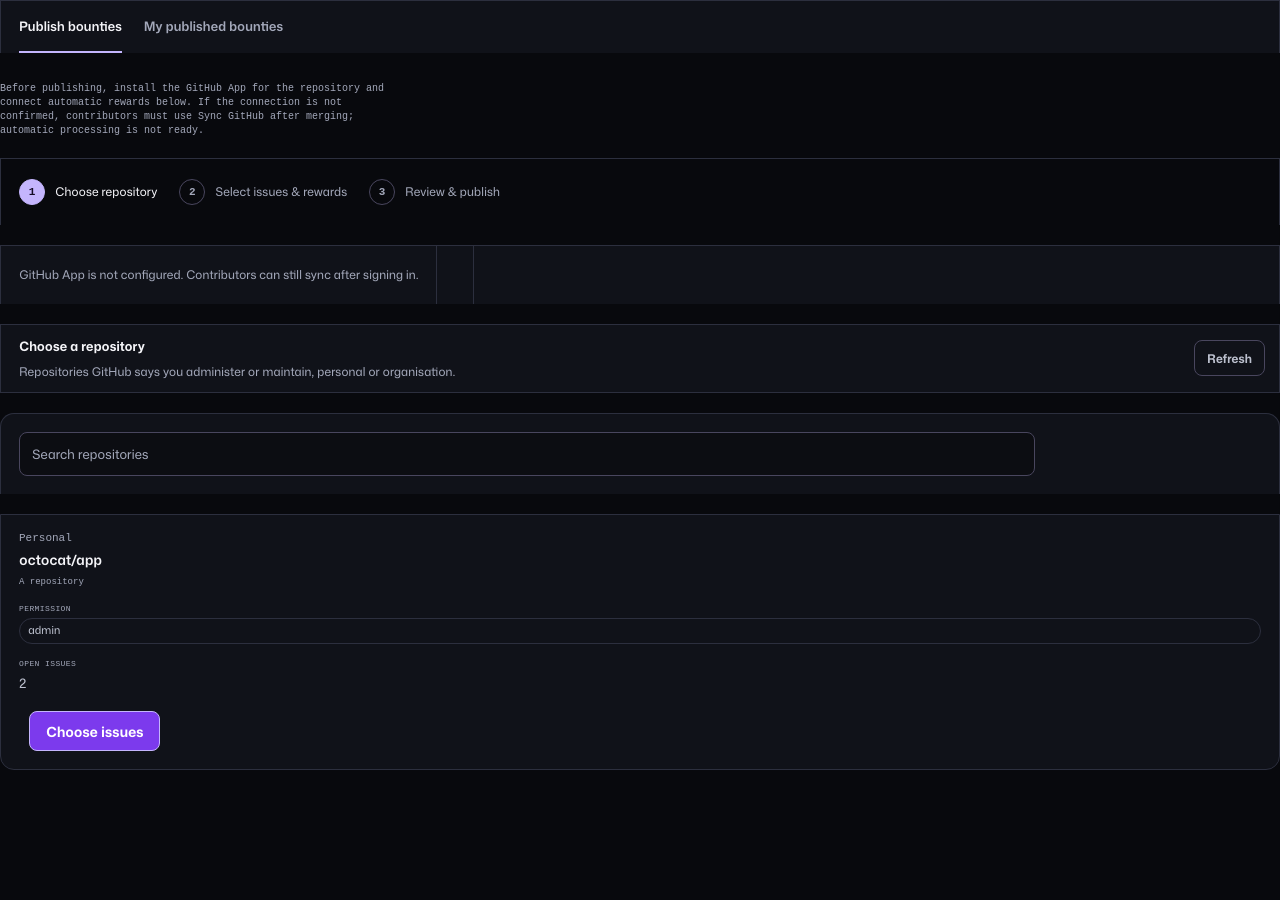
Scenario: validating a bounty value › accepts 1
The width and height of the screenshot is (1280, 900).
Click the button "Choose issues": (95, 731) x1=29 y1=711 x2=160 y2=751
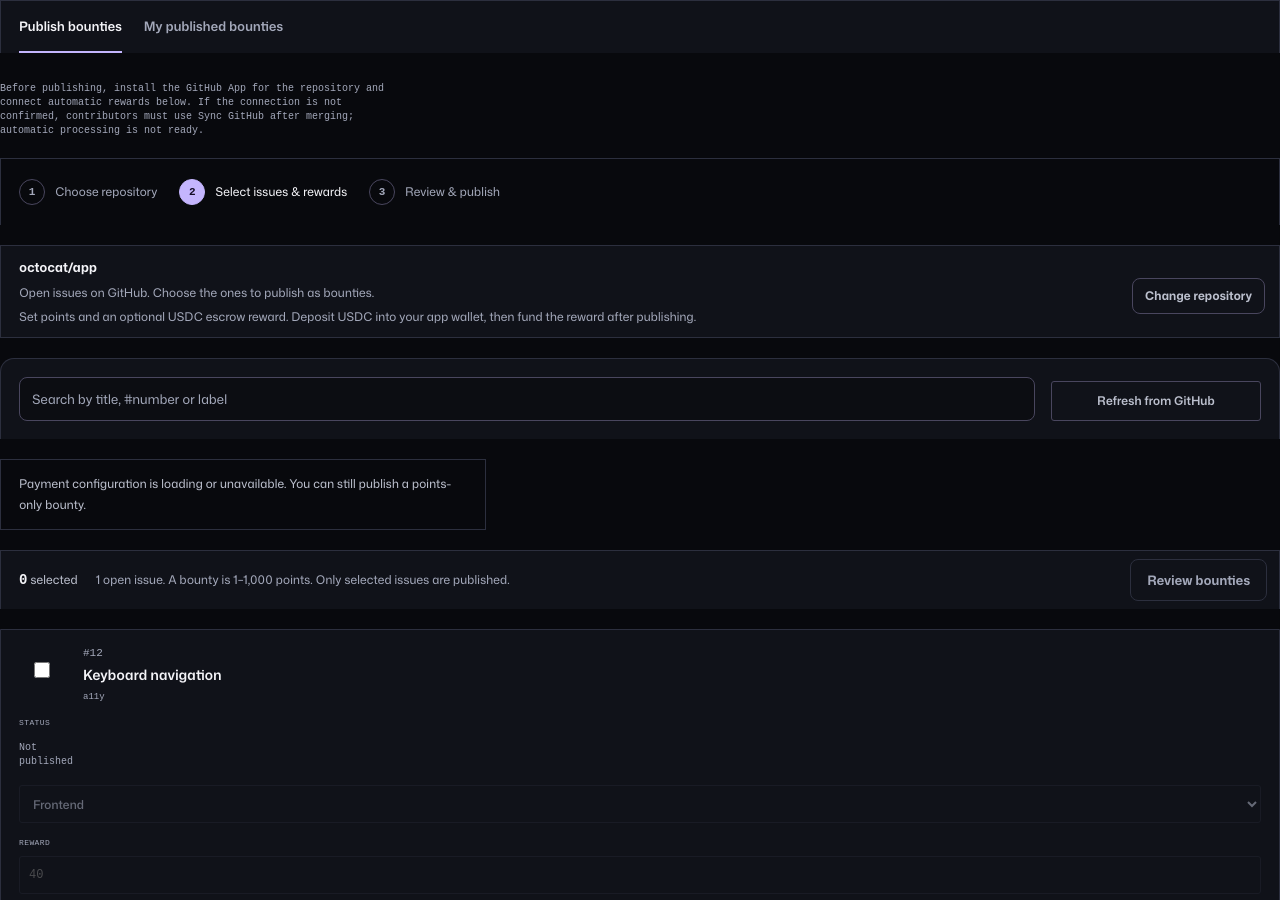
Now the link "Keyboard navigation" is shown, box x1=83 y1=665 x2=221 y2=684
Click the checkbox: (42, 670) x1=34 y1=662 x2=50 y2=678
(page scrolled)
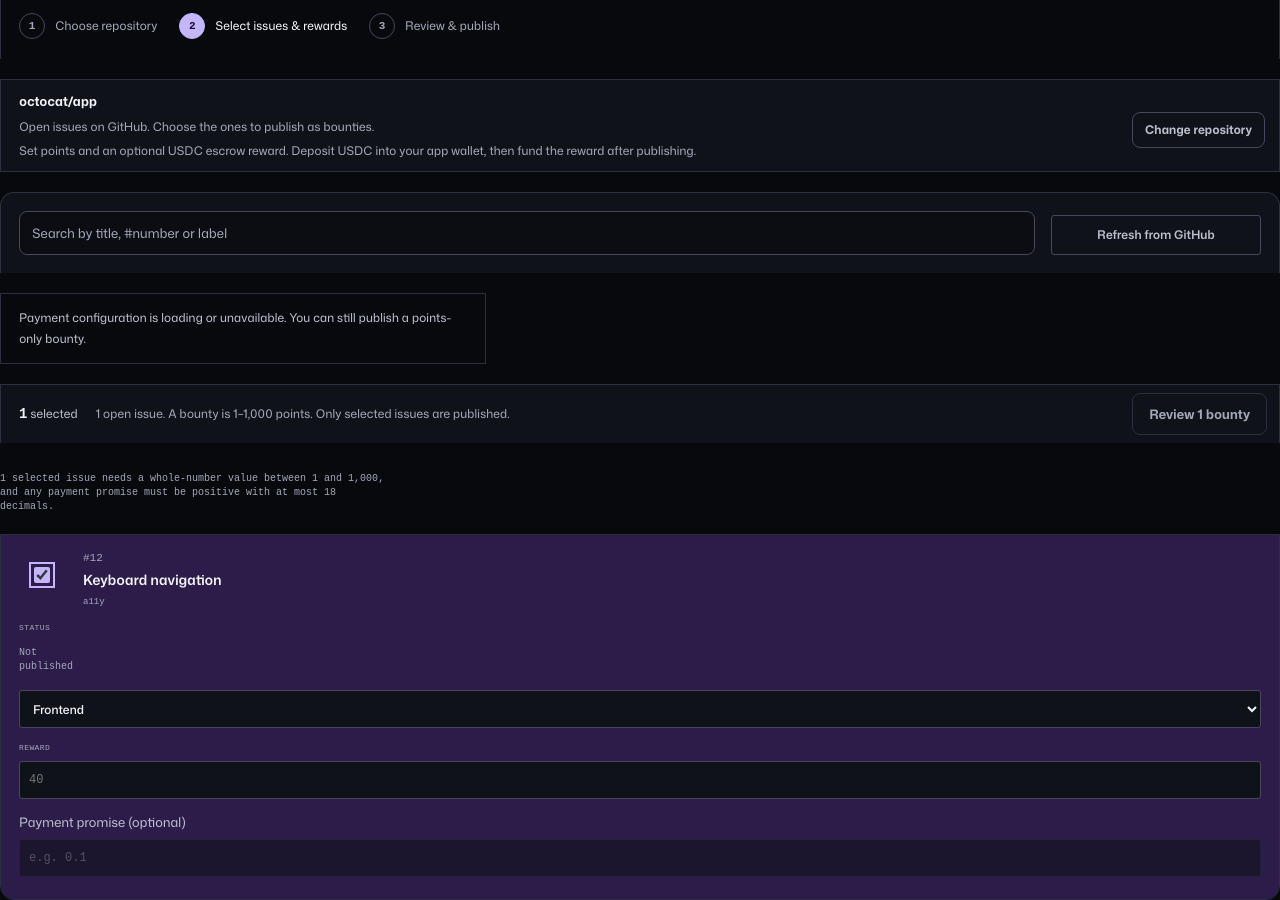
In the number field: (640, 780) x1=19 y1=762 x2=1261 y2=800, type "1"
(page scrolled)
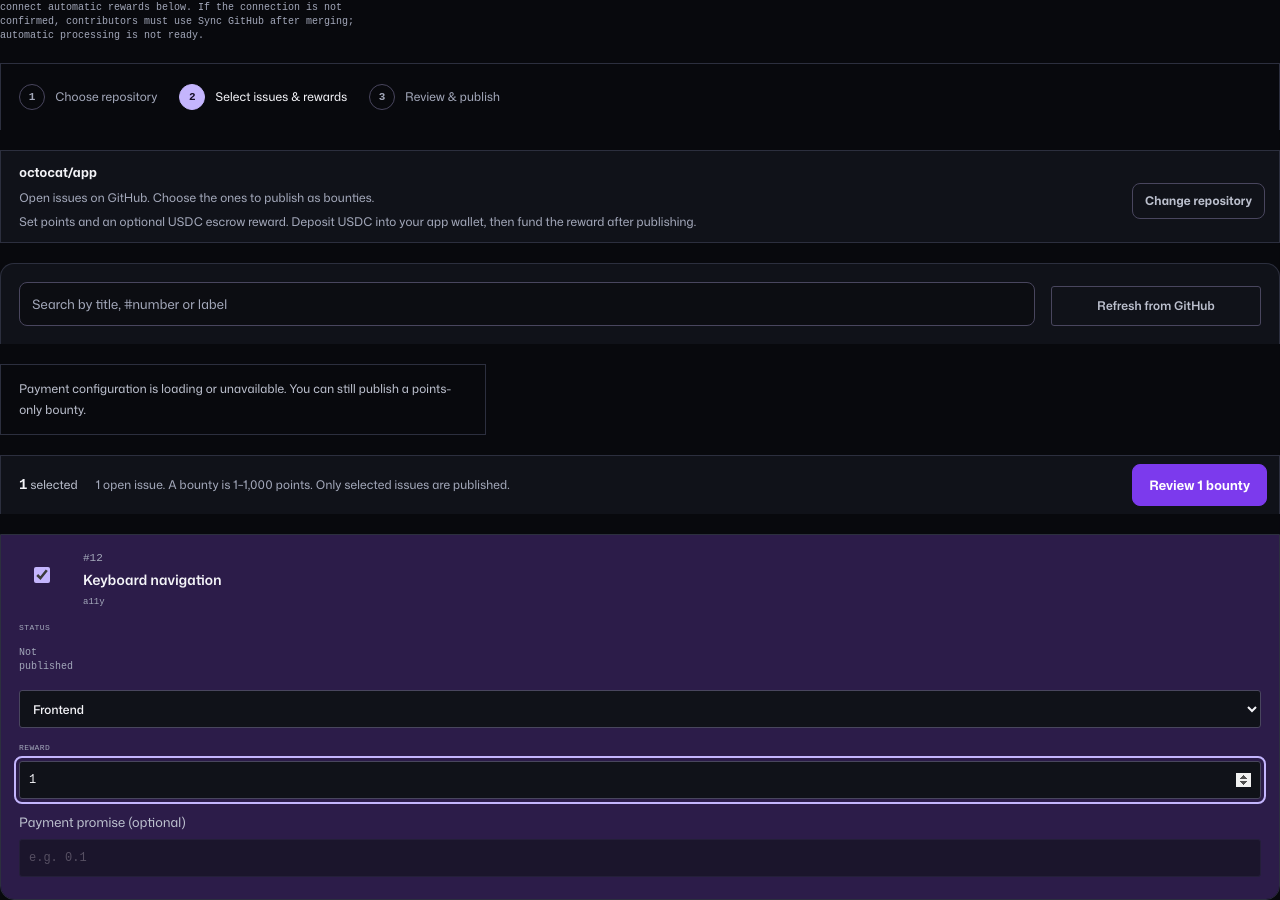
Now the button "Review 1 bounty" is enabled, box x1=1132 y1=464 x2=1267 y2=506
